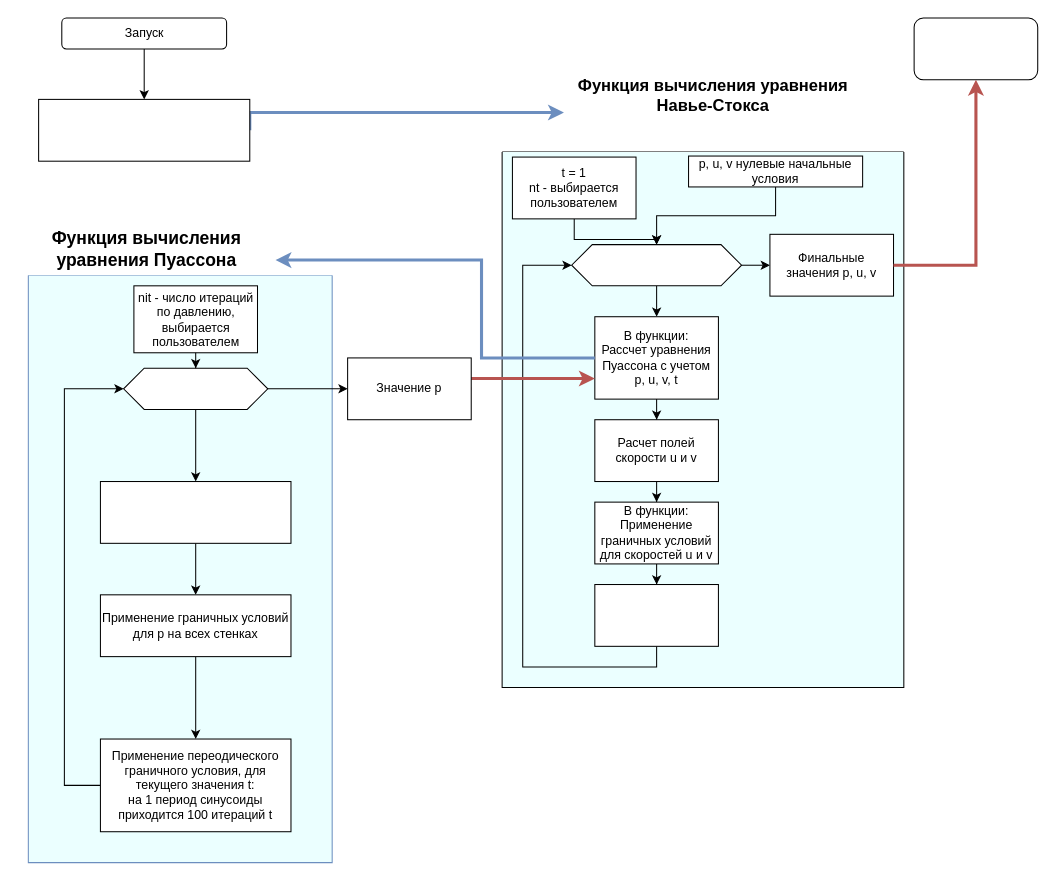
Some shapes in this 1056 by 889 pixel diagram are drawn without their labels. Each missing label, with the centre of its shape:
t += 1: pixel 656 614
Вычисление уравнения Пуассона (p): pixel 195 511
Данные на вход: Физические константы Форма канала: pixel 144 129
Завершение работы программы: pixel 975 48
Цикл по q: от 0 до nit: pixel 195 388
Цикл по времени t: от 1 до nt: pixel 656 265
